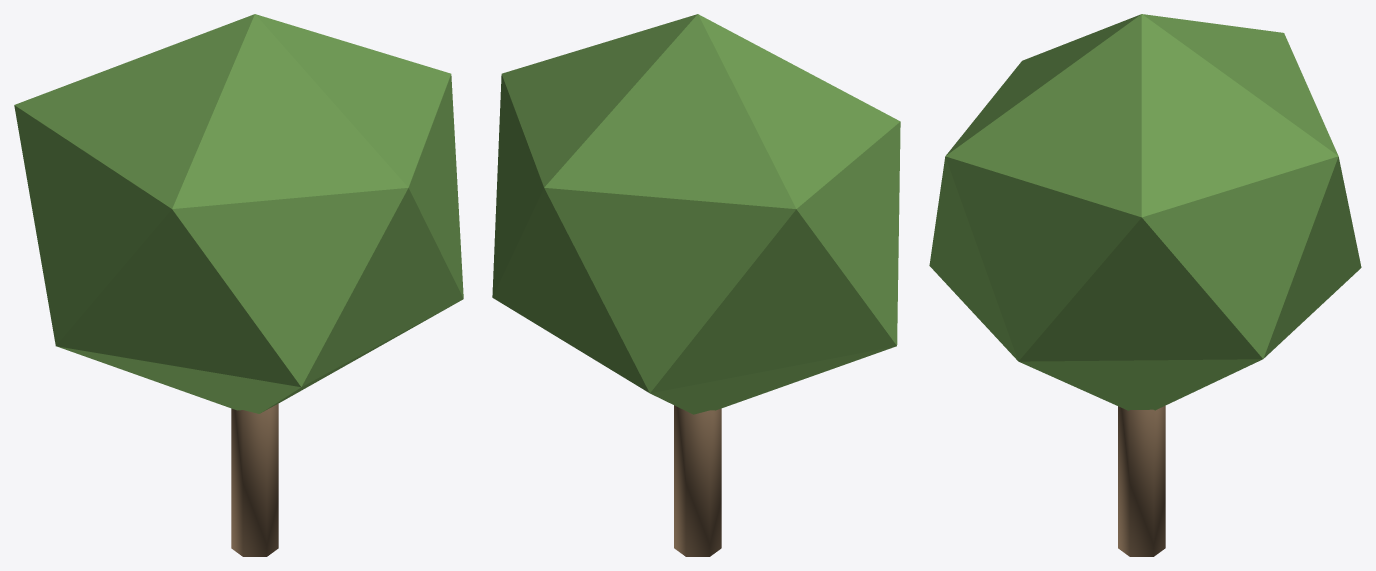
File: tree_oak_lod.glb
The picture shows the model from 3 angles, left to right: view 1: azimuth 30°, elevation 25°; view 2: azimuth 150°, elevation 25°; view 3: azimuth 270°, elevation 25°; orthographic projection.
Parts seen in each view (by area): view 1: Tree.003; view 2: Tree.003; view 3: Tree.003.
Part boxes in pixels (left/top/right/bottom): Tree.003: left=14, top=14, right=463, bottom=556; Tree.003: left=492, top=14, right=900, bottom=556; Tree.003: left=929, top=14, right=1361, bottom=556.
Bounding box in the file's own units: 6.71 × 8.66 × 6.35.
